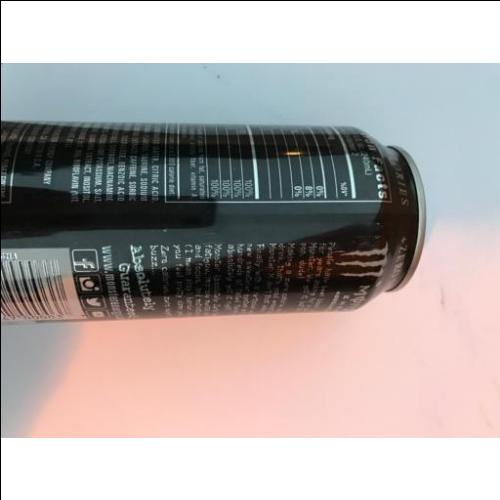metal: (0, 120, 428, 321)
